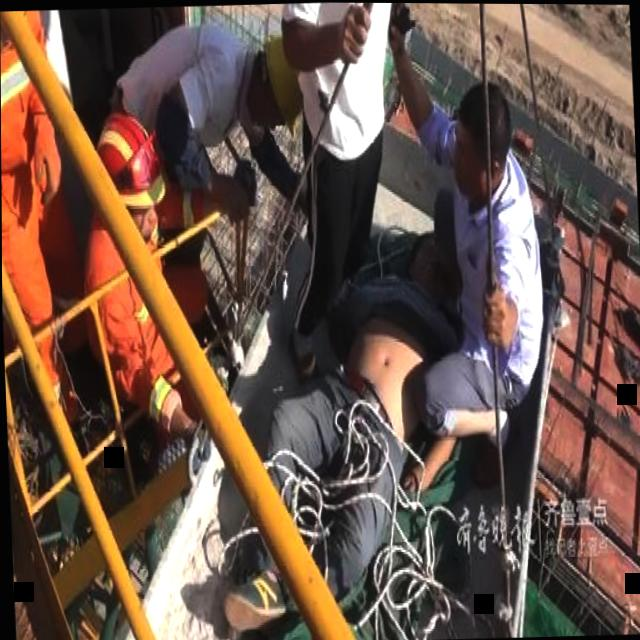Fall-Detected: (179, 191, 462, 640)
